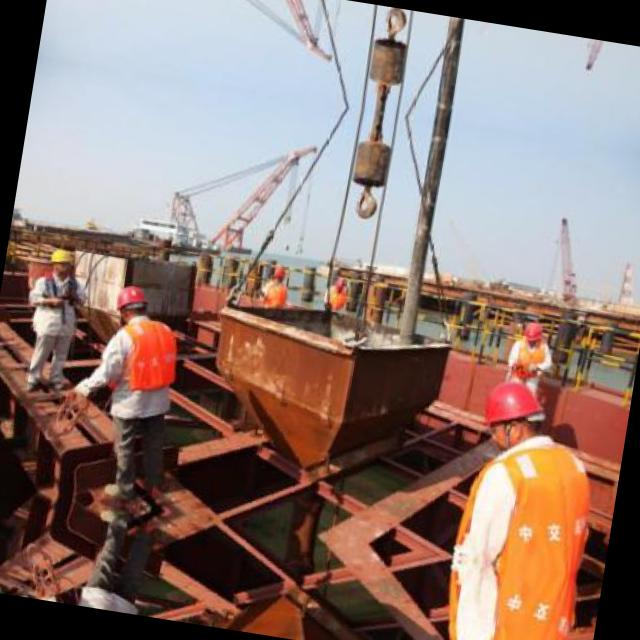helmet: (472, 370, 552, 458), (111, 281, 154, 328), (46, 240, 74, 277), (518, 316, 548, 348), (269, 262, 290, 284)
